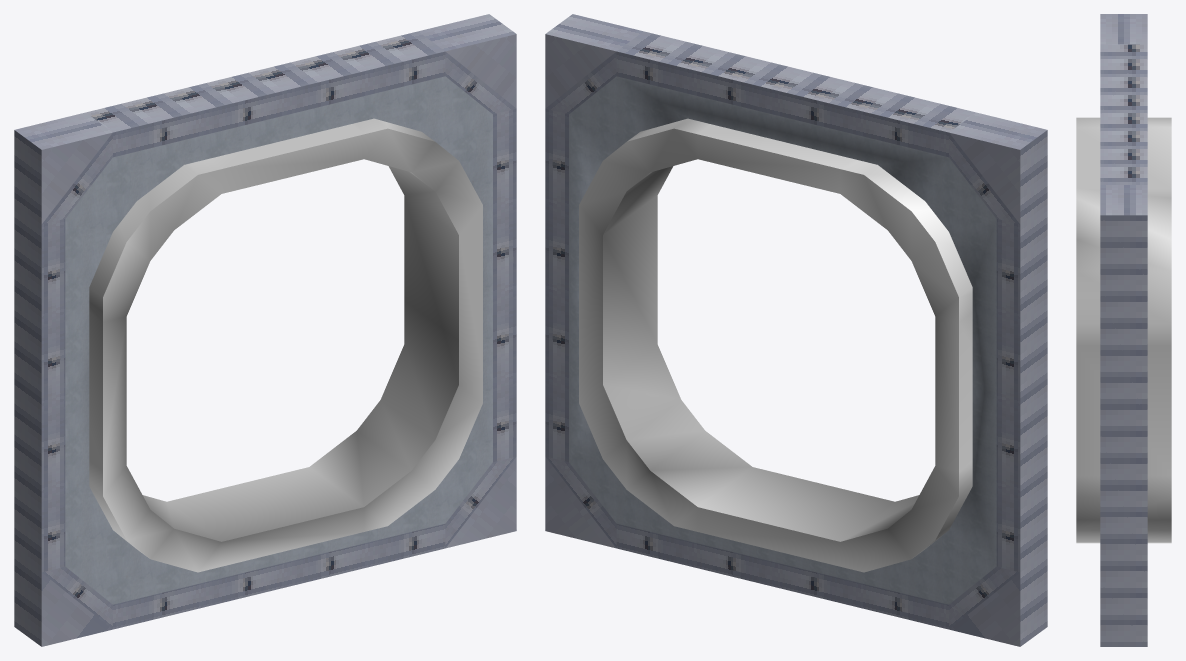
Rendered from joiner.dae.
3 renders of one model, left to right at view 1: azimuth 30°, elevation 25°; view 2: azimuth 150°, elevation 25°; view 3: azimuth 270°, elevation 25°, orthographic. The views are drawn at different scales.
Parts seen in each view (by area): view 1: entity0_brush24, entity0_brush23; view 2: entity0_brush24, entity0_brush23; view 3: entity0_brush24, entity0_brush23.
Boxes of the visible parts, left/top/right/bottom form: entity0_brush24: left=14, top=14, right=516, bottom=646; entity0_brush23: left=89, top=118, right=482, bottom=572; entity0_brush24: left=545, top=14, right=1047, bottom=646; entity0_brush23: left=579, top=118, right=972, bottom=572; entity0_brush24: left=1100, top=14, right=1147, bottom=646; entity0_brush23: left=1076, top=117, right=1171, bottom=543.
Size of the model in its own units: 80 by 16 by 80.
3 materials, 2 textured.
